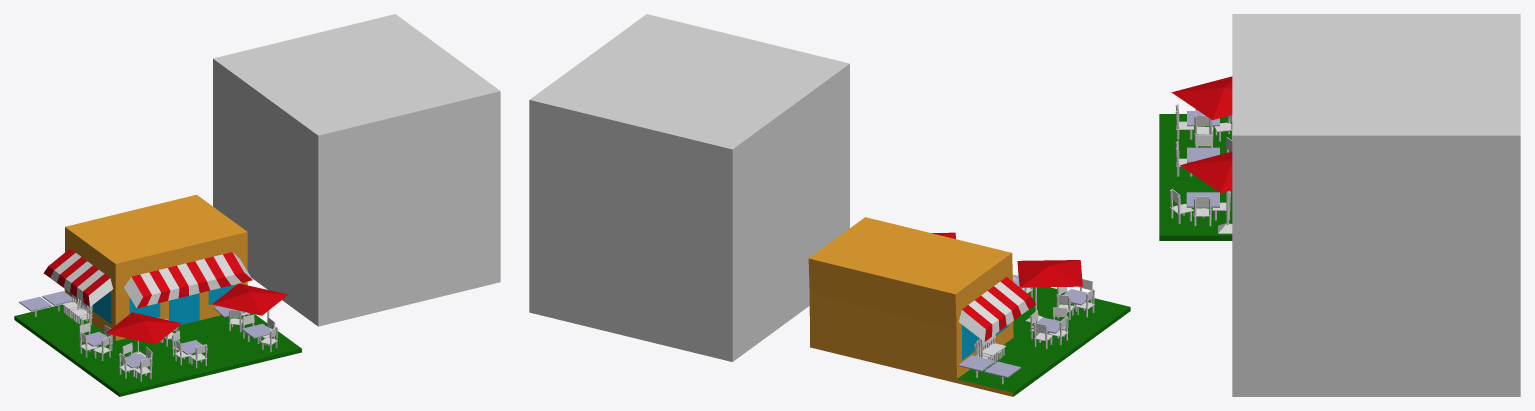
Rendered from bar.fbx.
3 renders of one model, left to right at view 1: azimuth 30°, elevation 25°; view 2: azimuth 150°, elevation 25°; view 3: azimuth 270°, elevation 25°, orthographic. The views are drawn at different scales.
Visible parts, largest first — view 1: Cube.001, Cube, Cube.068, Cube.003, Cube.073, Plane, Plane.001, Cube.002, Cube.065; view 2: Cube.001, Cube, Cube.068, Plane, Cube.002; view 3: Cube.001, Cube.068, Plane, Plane.001, Cube.004, Cube.017.
Part boxes in pixels (x1,y1,x2,y2): Cube.001: [213, 14, 500, 326]; Cube: [64, 194, 247, 340]; Cube.068: [14, 304, 301, 396]; Cube.003: [124, 252, 252, 308]; Cube.073: [131, 252, 252, 308]; Plane: [106, 312, 181, 344]; Plane.001: [212, 283, 288, 315]; Cube.002: [50, 253, 112, 306]; Cube.065: [169, 293, 199, 324]; Cube.001: [529, 14, 849, 361]; Cube: [808, 217, 1013, 396]; Cube.068: [957, 287, 1130, 396]; Plane: [1017, 260, 1082, 287]; Cube.002: [958, 281, 1028, 341]; Cube.001: [1232, 14, 1520, 396]; Cube.068: [1159, 114, 1232, 240]; Plane: [1171, 76, 1232, 120]; Plane.001: [1180, 151, 1232, 192]; Cube.004: [1187, 147, 1219, 163]; Cube.017: [1186, 192, 1219, 207].
Bounding box in the file's own units: 447 × 200 × 251.
